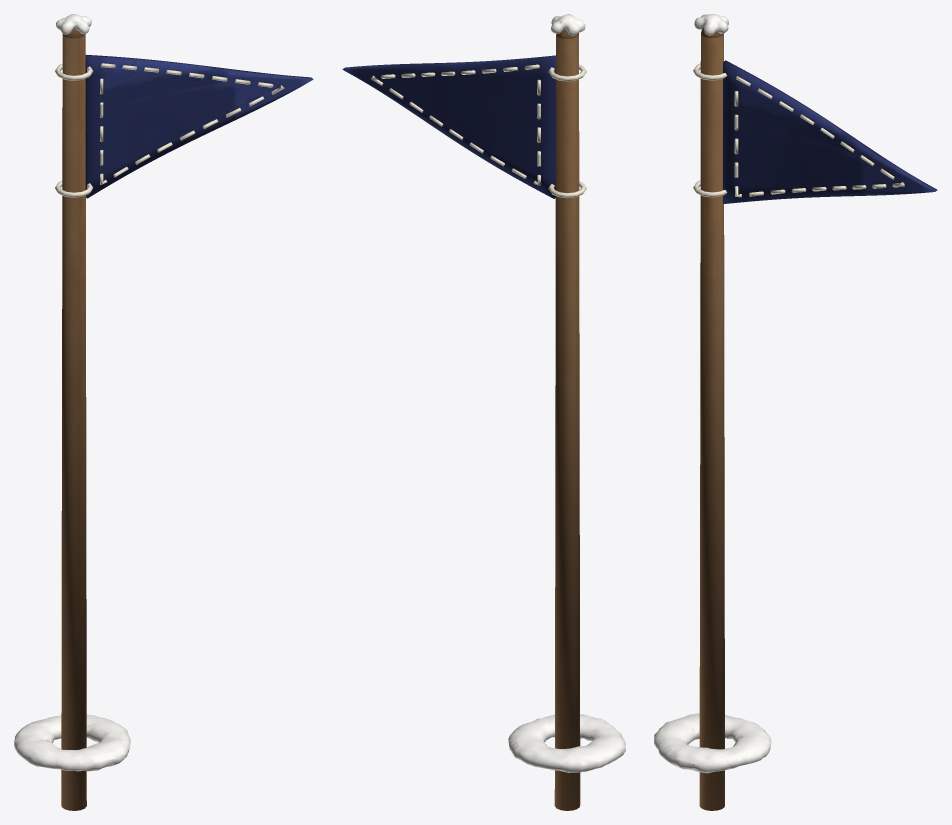
Rendered from flag_navy.glb.
The picture shows the model from 3 angles, left to right: view 1: azimuth 30°, elevation 25°; view 2: azimuth 150°, elevation 25°; view 3: azimuth 330°, elevation 25°; orthographic projection.
Visible parts, largest first — view 1: flag_navy_wood, flag_navy_felt, flag_navy_base, flag_navy_stitch, flag_navy_cap; view 2: flag_navy_wood, flag_navy_felt, flag_navy_base, flag_navy_stitch, flag_navy_cap; view 3: flag_navy_wood, flag_navy_felt, flag_navy_base, flag_navy_stitch, flag_navy_cap.
Boxes of the visible parts, x1,y1,x2,y2 form: flag_navy_wood: (61,29,86,810); flag_navy_felt: (85,55,313,198); flag_navy_base: (14,714,130,771); flag_navy_stitch: (55,63,284,197); flag_navy_cap: (56,14,91,34); flag_navy_wood: (554,29,580,810); flag_navy_felt: (342,55,555,198); flag_navy_base: (508,714,625,772); flag_navy_stitch: (371,64,586,198); flag_navy_cap: (551,14,585,35); flag_navy_wood: (699,28,724,810); flag_navy_felt: (723,60,937,203); flag_navy_base: (654,713,771,773); flag_navy_stitch: (693,63,904,197); flag_navy_cap: (694,14,728,35).
Bounding box in the file's own units: 0.7103 × 1.89 × 0.2512.
5 materials, 2 textured.
